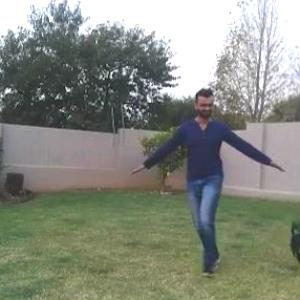land: (131, 99, 280, 263)
